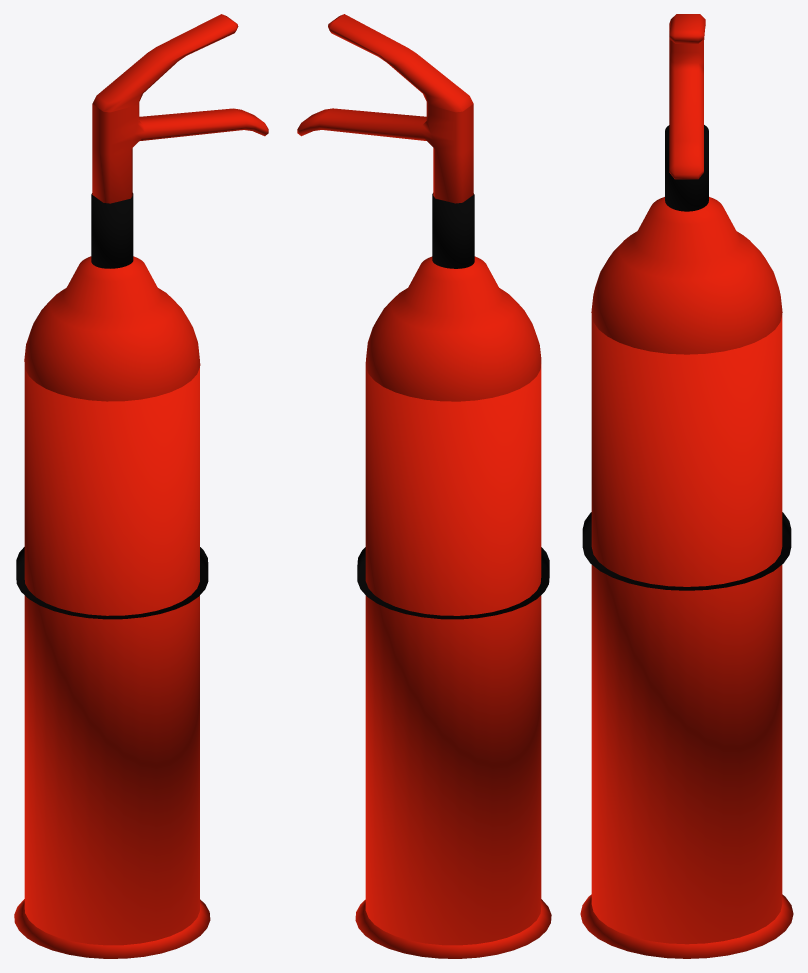
File: extintor.gltf
The picture shows the model from 3 angles, left to right: view 1: azimuth 30°, elevation 25°; view 2: azimuth 150°, elevation 25°; view 3: azimuth 270°, elevation 25°; orthographic projection. The views are drawn at different scales.
Parts seen in each view (by area): view 1: Cube; view 2: Cube; view 3: Cube.
Boxes of the visible parts, x1,y1,x2,y2 form: Cube: (14, 14, 268, 958); Cube: (297, 14, 551, 958); Cube: (580, 14, 793, 958).
Bounding box in the file's own units: 0.0242 × 0.0853 × 0.0174.
